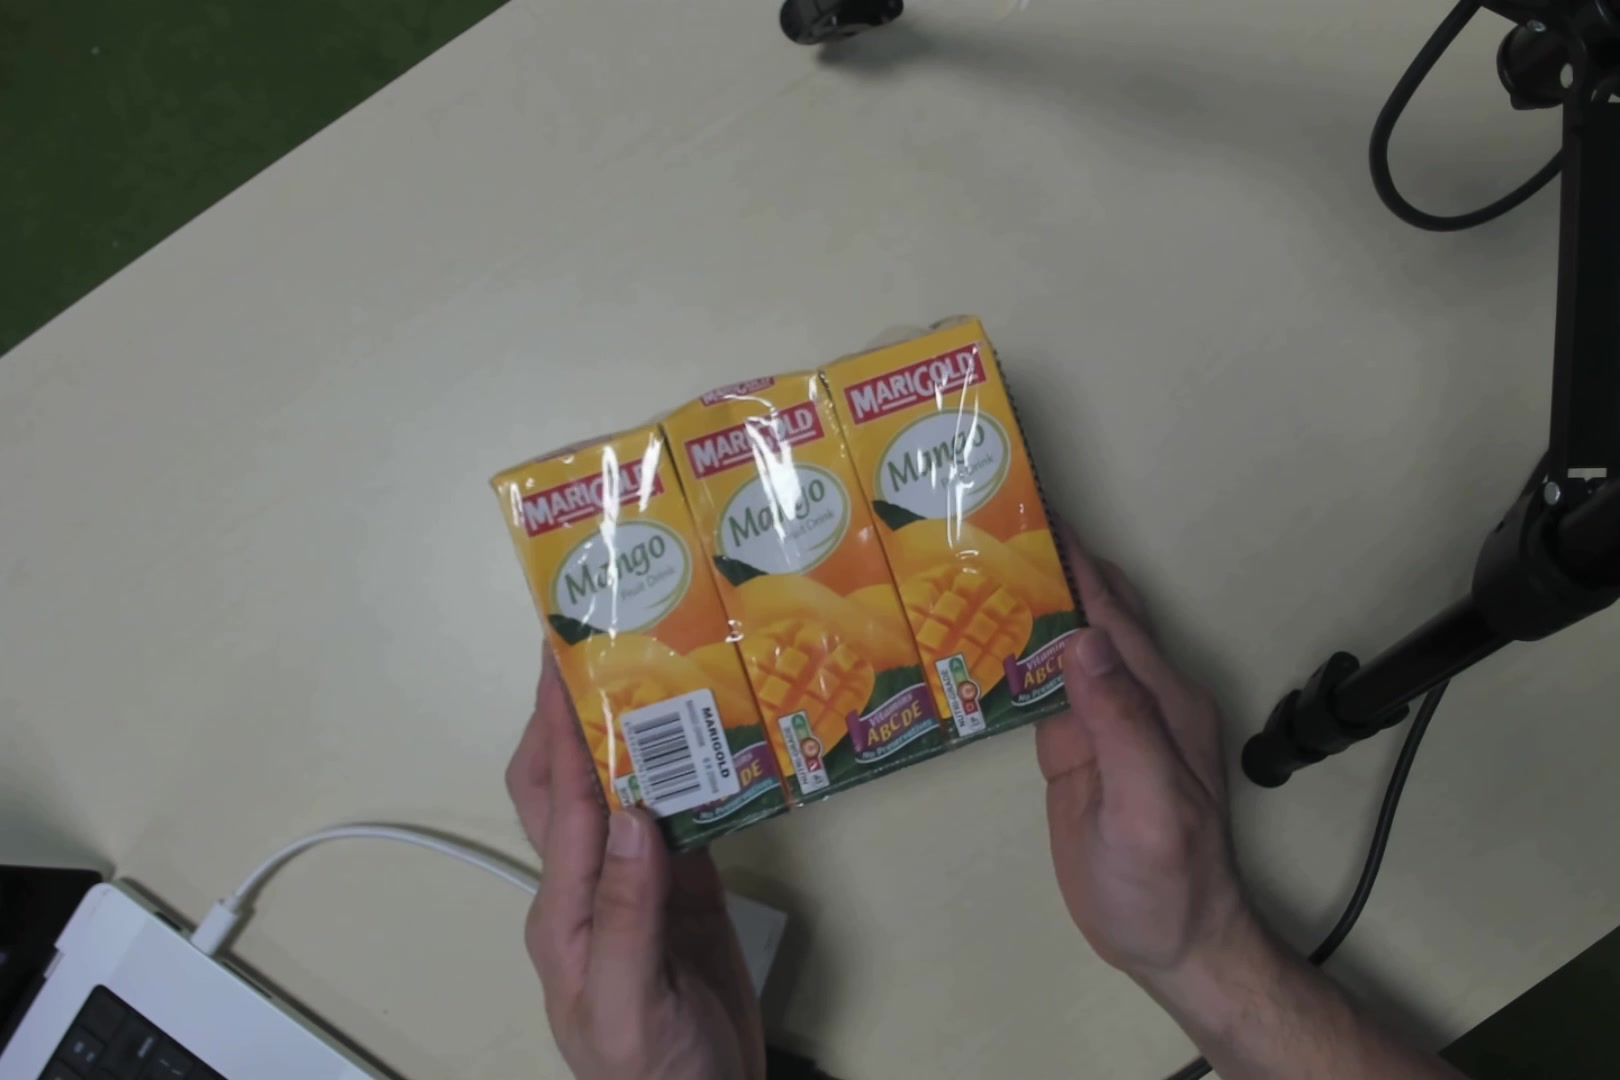FruitJuice_700-799g_Halal_NonHealthy: (540, 312, 1061, 790)
